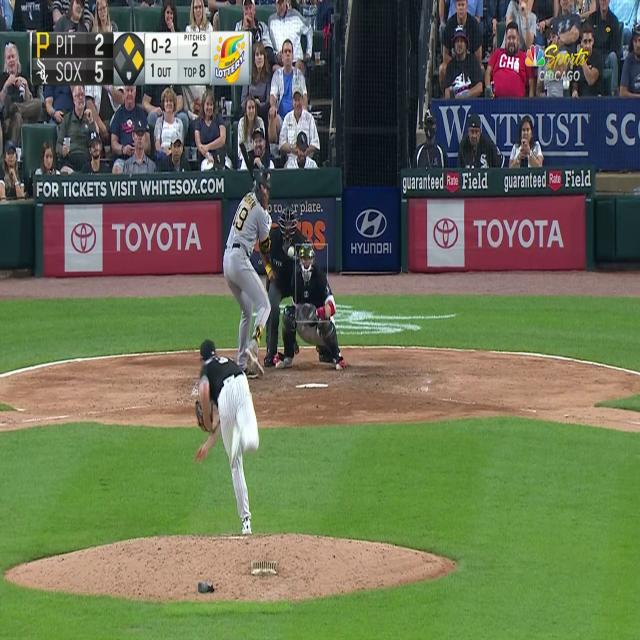baseball: (288, 245, 294, 258)
